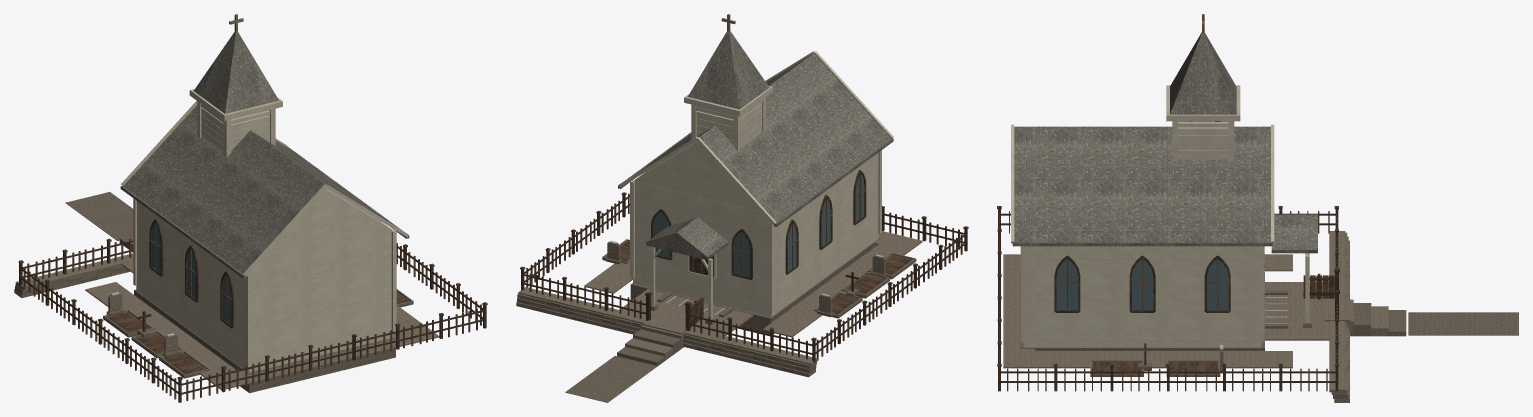
File: chapel_steeple.glb
3 views of the same model, side by side, from view 1: azimuth 30°, elevation 25°; view 2: azimuth 150°, elevation 25°; view 3: azimuth 270°, elevation 25° (orthographic). The views are drawn at different scales.
Visible parts, largest first — view 1: Lapped clapboard (×23), Overhanging shingle roof (×2), Weatherboard gables, Shingled steeple, Masonry footing, Churchyard walk west, Path apron, Churchyard walk south, Weatherboard apron, Corner casing (×2), Gable bargeboard (×2), Revetment capstone (+3 smaller); view 2: Lapped clapboard (×23), Overhanging shingle roof (×2), Weatherboard gables, Shingled steeple, Churchyard walk west, Path apron, Entry canopy, Revetment capstone (×2), Weatherboard apron, Path tread (×3), Masonry footing, Churchyard forecourt (+10 smaller); view 3: Overhanging shingle roof, Lapped clapboard (×21), Shingled steeple, Churchyard walk east, Lancet glazing (×3), Churchyard forecourt, Path apron, Churchyard walk south, Weatherboard apron, Revetment capstone (×2), Entry canopy, Path tread (×3) (+10 smaller).
Boxes of the visible parts, box(x1,y1,x2,y2) form: Lapped clapboard (×23): box(137, 201, 391, 364); Overhanging shingle roof (×2): box(123, 105, 388, 273); Weatherboard gables: box(259, 188, 392, 263); Shingled steeple: box(194, 31, 278, 113); Masonry footing: box(134, 289, 395, 393); Churchyard walk west: box(85, 282, 236, 380); Path apron: box(65, 192, 133, 240); Churchyard walk south: box(207, 326, 439, 389); Weatherboard apron: box(136, 284, 393, 372); Corner casing (×2): box(246, 229, 396, 367); Gable bargeboard (×2): box(121, 100, 327, 276); Revetment capstone: box(16, 253, 133, 289); Lapped clapboard (×23): box(635, 153, 878, 309); Overhanging shingle roof (×2): box(638, 53, 891, 222); Weatherboard gables: box(634, 141, 761, 212); Shingled steeple: box(688, 31, 769, 109); Churchyard walk west: box(763, 240, 913, 337); Path apron: box(565, 356, 657, 402); Entry canopy: box(646, 217, 728, 260); Revetment capstone (×2): box(518, 287, 818, 365); Weatherboard apron: box(633, 233, 878, 316); Path tread (×3): box(617, 329, 680, 365); Masonry footing: box(630, 237, 880, 336); Churchyard forecourt: box(621, 289, 753, 335); Overhanging shingle roof: box(1014, 126, 1270, 242); Lapped clapboard (×21): box(1025, 246, 1260, 340); Shingled steeple: box(1170, 32, 1236, 114); Churchyard walk east: box(1021, 351, 1292, 368); Lancet glazing (×3): box(1056, 259, 1228, 310); Churchyard forecourt: box(1265, 282, 1329, 340); Path apron: box(1408, 312, 1518, 335); Churchyard walk south: box(1003, 254, 1034, 368); Weatherboard apron: box(1023, 340, 1261, 347); Revetment capstone (×2): box(1329, 231, 1345, 392); Entry canopy: box(1271, 214, 1317, 253); Path tread (×3): box(1353, 303, 1406, 336).
Bounding box in the file's own units: 15.58 × 14.37 × 21.52.
11 materials, 8 textured.
